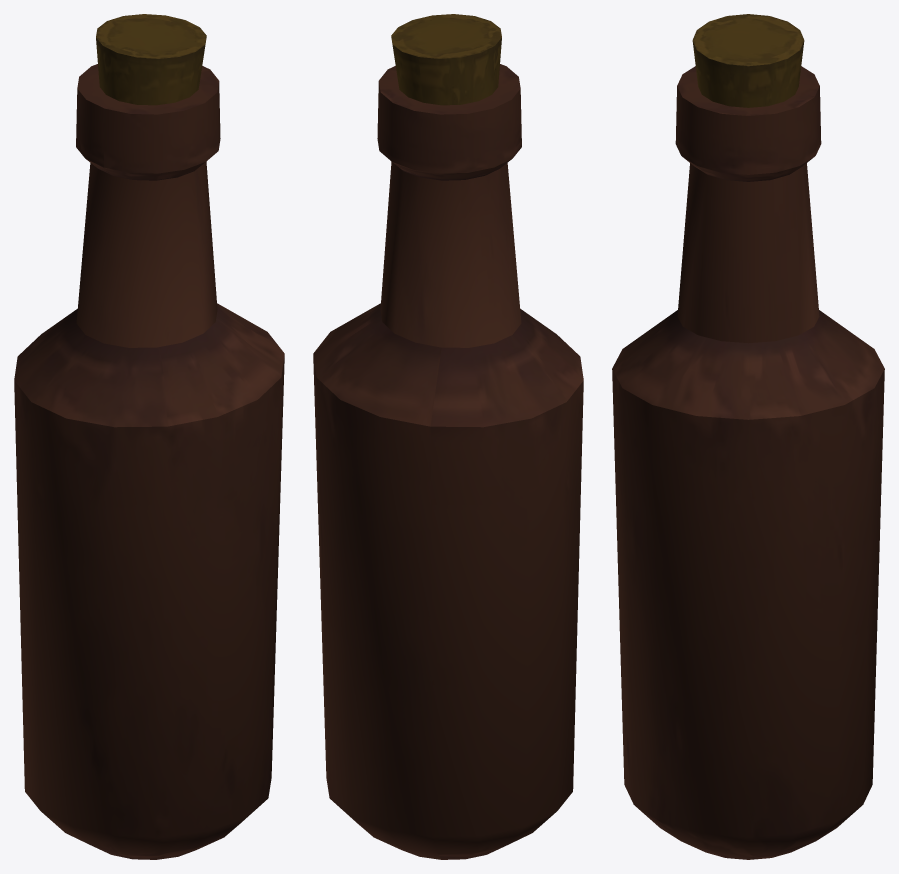
File: Bottle_1.glb
3 views of the same model, side by side, from view 1: azimuth 30°, elevation 25°; view 2: azimuth 150°, elevation 25°; view 3: azimuth 270°, elevation 25° (orthographic).
Parts seen in each view (by area): view 1: Bottle_1; view 2: Bottle_1; view 3: Bottle_1.
Part boxes in pixels (left/top/right/bottom): Bottle_1: left=14, top=14, right=284, bottom=859; Bottle_1: left=313, top=14, right=583, bottom=859; Bottle_1: left=612, top=14, right=884, bottom=859.
Size of the model in its own units: 0.1127 by 0.3647 by 0.1129.
1 material, 1 textured.
